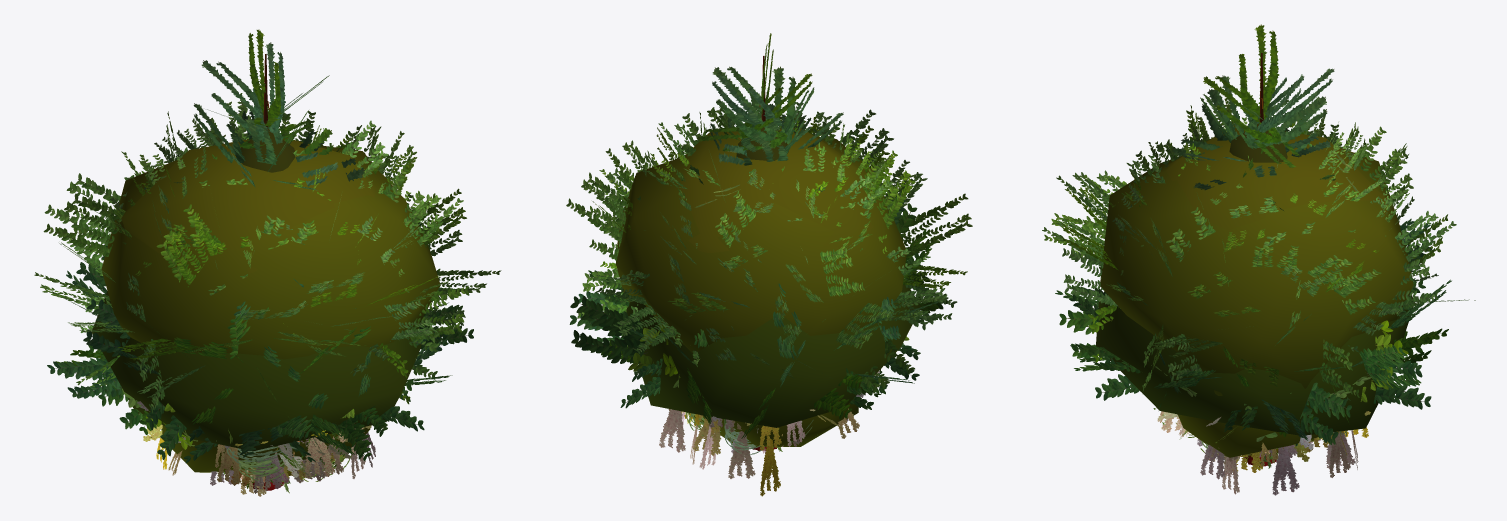
Rendered from trees_far.glb.
3 views of the same model, side by side, from view 1: azimuth 30°, elevation 25°; view 2: azimuth 150°, elevation 25°; view 3: azimuth 270°, elevation 25° (orthographic). The views are drawn at different scales.
Visible parts, largest first — view 1: camphor_LOD2, camphor_LOD1, fig_LOD2, zelkova_LOD2, fig_LOD1, sugi_LOD1, zelkova_LOD1, shidarezakura_LOD1, shidarezakura_LOD2, sugi_LOD2, casuarina_LOD1, cherry_LOD1; view 2: camphor_LOD2, camphor_LOD1, fig_LOD2, zelkova_LOD2, fig_LOD1, sugi_LOD1, shidarezakura_LOD1, zelkova_LOD1, shidarezakura_LOD2, pisonia_LOD1, sugi_LOD2, casuarina_LOD1; view 3: camphor_LOD2, camphor_LOD1, fig_LOD2, fig_LOD1, zelkova_LOD2, sugi_LOD1, shidarezakura_LOD1, zelkova_LOD1, shidarezakura_LOD2, sugi_LOD2, pisonia_LOD1.
Boxes of the visible parts, left/top/right/bottom form: camphor_LOD2: left=101, top=145, right=439, bottom=359; camphor_LOD1: left=34, top=111, right=501, bottom=421; fig_LOD2: left=91, top=291, right=421, bottom=490; zelkova_LOD2: left=121, top=138, right=375, bottom=273; fig_LOD1: left=47, top=209, right=473, bottom=490; sugi_LOD1: left=174, top=29, right=364, bottom=190; zelkova_LOD1: left=109, top=93, right=417, bottom=334; shidarezakura_LOD1: left=156, top=428, right=375, bottom=496; shidarezakura_LOD2: left=162, top=425, right=370, bottom=472; sugi_LOD2: left=240, top=54, right=295, bottom=172; casuarina_LOD1: left=161, top=429, right=351, bottom=481; cherry_LOD1: left=137, top=401, right=371, bottom=479; camphor_LOD2: left=616, top=136, right=906, bottom=353; camphor_LOD1: left=566, top=102, right=972, bottom=393; fig_LOD2: left=626, top=284, right=920, bottom=450; zelkova_LOD2: left=681, top=128, right=873, bottom=252; fig_LOD1: left=569, top=196, right=947, bottom=450; sugi_LOD1: left=681, top=33, right=843, bottom=191; shidarezakura_LOD1: left=659, top=408, right=859, bottom=496; zelkova_LOD1: left=623, top=114, right=893, bottom=330; shidarezakura_LOD2: left=687, top=399, right=858, bottom=446; pisonia_LOD1: left=609, top=324, right=909, bottom=426; sugi_LOD2: left=736, top=56, right=788, bottom=160; casuarina_LOD1: left=686, top=369, right=880, bottom=454; camphor_LOD2: left=1100, top=147, right=1413, bottom=395; camphor_LOD1: left=1042, top=105, right=1475, bottom=415; fig_LOD2: left=1096, top=291, right=1413, bottom=465; fig_LOD1: left=1055, top=218, right=1451, bottom=466; zelkova_LOD2: left=1166, top=125, right=1388, bottom=230; sugi_LOD1: left=1171, top=24, right=1335, bottom=210; shidarezakura_LOD1: left=1157, top=411, right=1368, bottom=495; zelkova_LOD1: left=1108, top=97, right=1408, bottom=303; shidarezakura_LOD2: left=1177, top=414, right=1319, bottom=457; sugi_LOD2: left=1229, top=53, right=1287, bottom=162; pisonia_LOD1: left=1155, top=317, right=1408, bottom=441.
Bounding box in the file's own units: 26.7 × 29.73 × 27.64.
45 materials, 1 textured.
